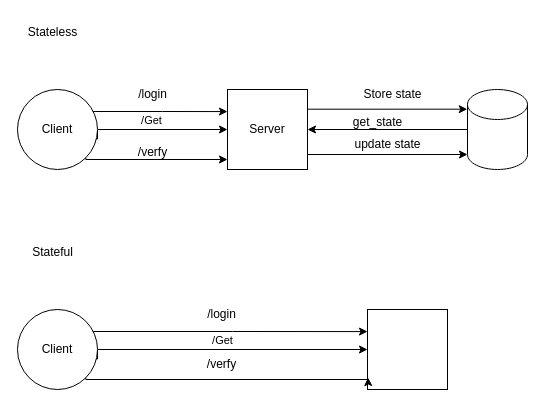
Image size: 545x407. Some labels were removed from this diagram. The centre of each missing label's shape, as x and y in pixels:
Server with state: (407,349)
State DB: (497,129)
